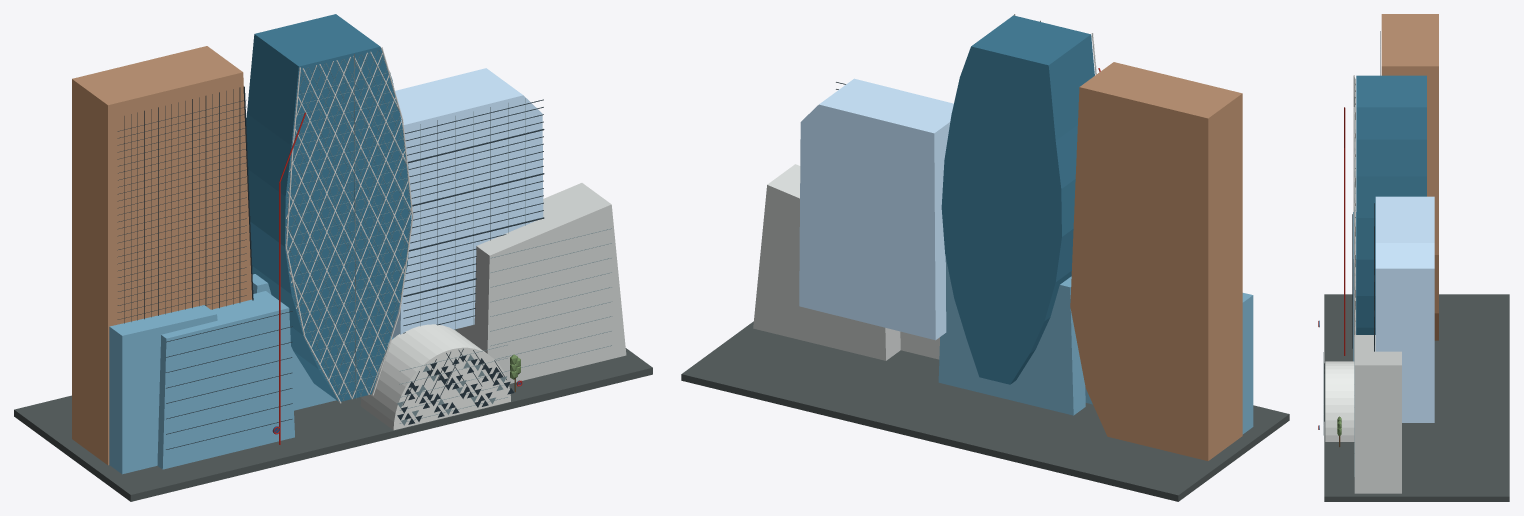
Rendered from shinjuku-modeled-design.glb.
3 views of the same model, side by side, from view 1: azimuth 30°, elevation 25°; view 2: azimuth 150°, elevation 25°; view 3: azimuth 270°, elevation 25° (orthographic). The views are drawn at different scales.
Visible parts, largest first — view 1: 01 Sompo Japan Building - left tower, 04 Mode Gakuen Cocoon Tower, 05 Right striped tower, 06 Right foreground annex, 03 Left middle office, Modeled street base, 07 Mode Gakuen Cocoon Hall, 02 Left foreground office, 04B Cocoon Tower lower podium, Cocoon right perimeter rib, Cocoon left perimeter rib; view 2: 01 Sompo Japan Building - left tower, 04 Mode Gakuen Cocoon Tower, 05 Right striped tower, Modeled street base, 06 Right foreground annex, 04B Cocoon Tower lower podium, 02 Left foreground office, 07 Mode Gakuen Cocoon Hall; view 3: Modeled street base, 05 Right striped tower, 04 Mode Gakuen Cocoon Tower, 06 Right foreground annex, 01 Sompo Japan Building - left tower, 07 Mode Gakuen Cocoon Hall, Cocoon right perimeter rib, 08 Construction crane mast, 03 Left middle office.
Boxes of the visible parts, x1,y1,x2,y2 form: 01 Sompo Japan Building - left tower: (72, 46, 252, 465); 04 Mode Gakuen Cocoon Tower: (246, 14, 411, 401); 05 Right striped tower: (391, 68, 543, 337); 06 Right foreground annex: (457, 183, 626, 383); 03 Left middle office: (157, 291, 294, 469); Modeled street base: (14, 328, 652, 501); 07 Mode Gakuen Cocoon Hall: (360, 324, 510, 430); 02 Left foreground office: (109, 305, 217, 474); 04B Cocoon Tower lower podium: (252, 274, 393, 410); Cocoon right perimeter rib: (372, 47, 413, 395); Cocoon left perimeter rib: (285, 67, 341, 403); 01 Sompo Japan Building - left tower: (1070, 62, 1242, 460); 04 Mode Gakuen Cocoon Tower: (941, 15, 1094, 384); 05 Right striped tower: (799, 78, 953, 340); Modeled street base: (681, 321, 1289, 501); 06 Right foreground annex: (753, 164, 900, 360); 04B Cocoon Tower lower podium: (938, 257, 1085, 415); 02 Left foreground office: (1242, 293, 1253, 434); 07 Mode Gakuen Cocoon Hall: (900, 331, 939, 359); Modeled street base: (1324, 294, 1509, 501); 05 Right striped tower: (1375, 196, 1434, 422); 04 Mode Gakuen Cocoon Tower: (1356, 75, 1426, 334); 06 Right foreground annex: (1354, 335, 1401, 493); 01 Sompo Japan Building - left tower: (1381, 14, 1438, 340); 07 Mode Gakuen Cocoon Hall: (1325, 361, 1354, 441); Cocoon right perimeter rib: (1353, 107, 1354, 360); 08 Construction crane mast: (1344, 148, 1345, 355); 03 Left middle office: (1353, 212, 1356, 361).
Bounding box in the file's own units: 28.4 × 19.49 × 11.36.
